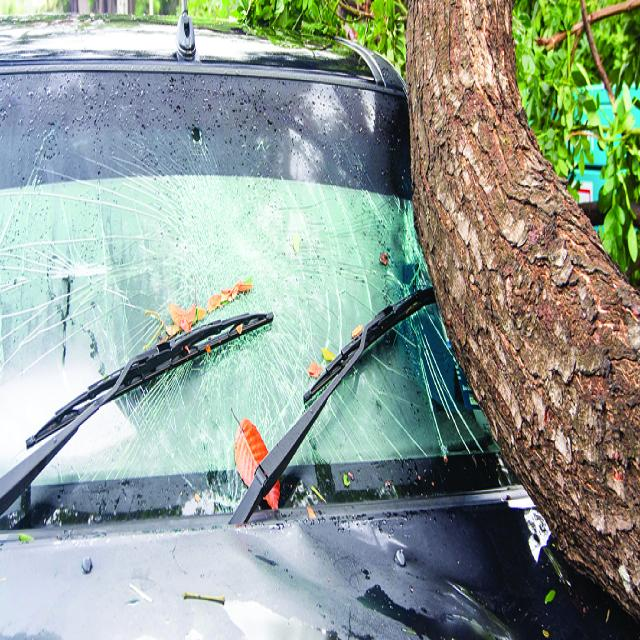crack: (0, 105, 488, 478)
